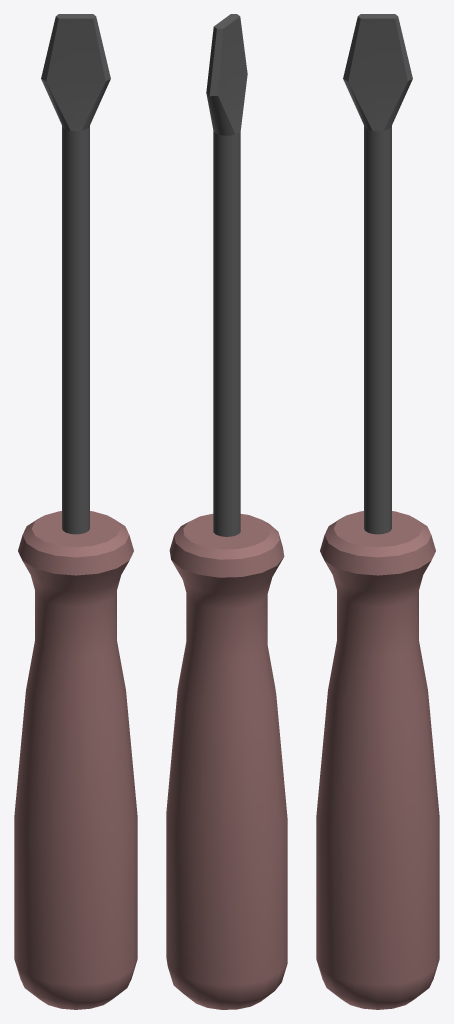
The model's file is ScrewDriver.fbx.
3 renders of one model, left to right at view 1: azimuth 90°, elevation 25°; view 2: azimuth 150°, elevation 25°; view 3: azimuth 270°, elevation 25°, orthographic.
Parts seen in each view (by area): view 1: pCylinder1; view 2: pCylinder1; view 3: pCylinder1.
Part boxes in pixels (x1,y1,x2,y2): pCylinder1: (14, 14, 137, 1009); pCylinder1: (166, 14, 287, 1009); pCylinder1: (316, 14, 439, 1009).
Bounding box in the file's own units: 4.81 × 42.27 × 4.81.
